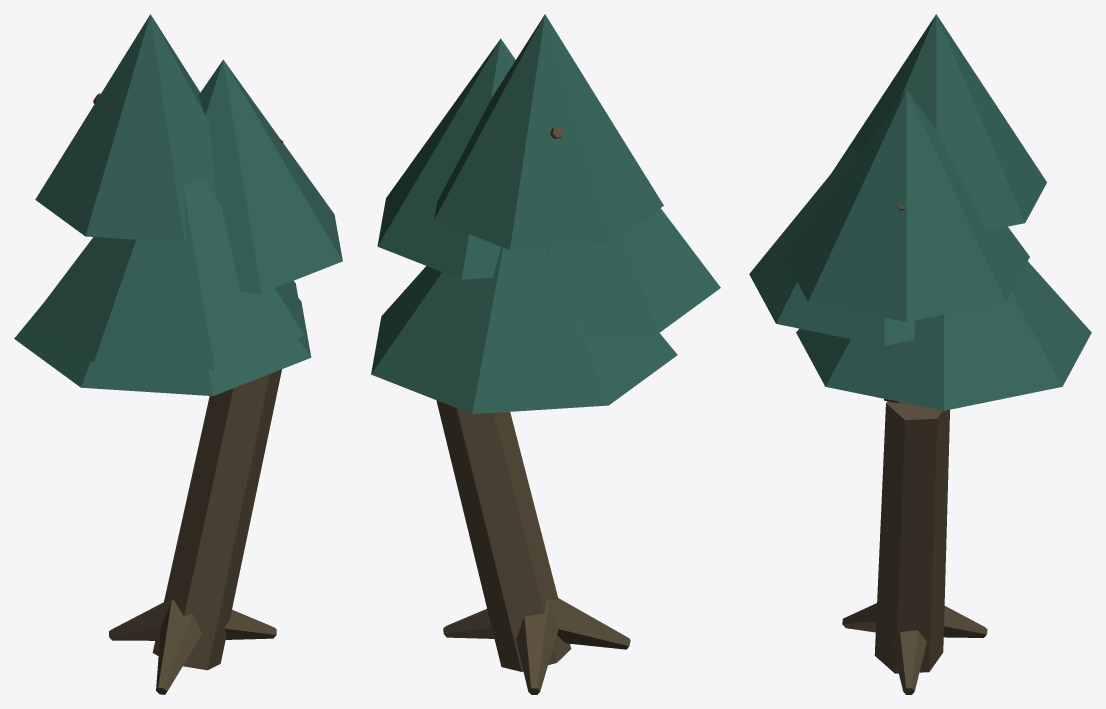
File: map-boundaries-v5__ridge_05.glb
3 renders of one model, left to right at view 1: azimuth 30°, elevation 25°; view 2: azimuth 150°, elevation 25°; view 3: azimuth 270°, elevation 25°, orthographic. The views are drawn at different scales.
Visible parts, largest first — view 1: ridge_05; view 2: ridge_05; view 3: ridge_05.
Part boxes in pixels (x1,y1,x2,y2): ridge_05: (14, 14, 342, 694); ridge_05: (371, 14, 720, 694); ridge_05: (749, 14, 1091, 694).
Size of the model in its own units: 1.4 by 3.05 by 1.49.
